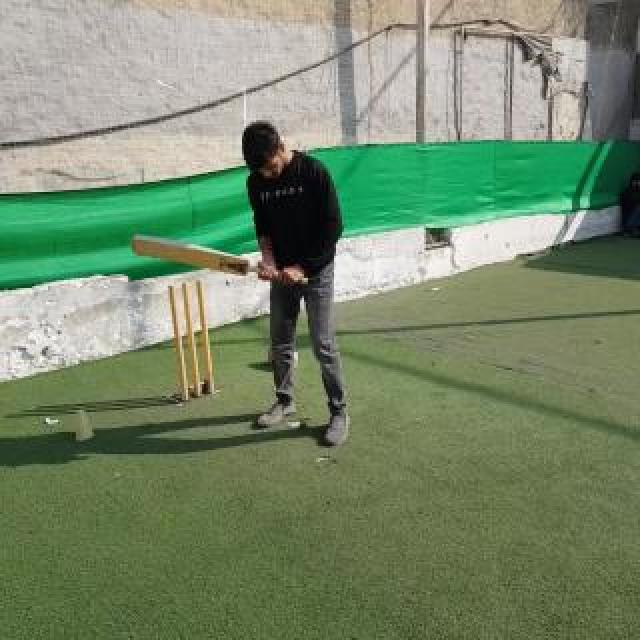bat: (132, 234, 310, 286)
